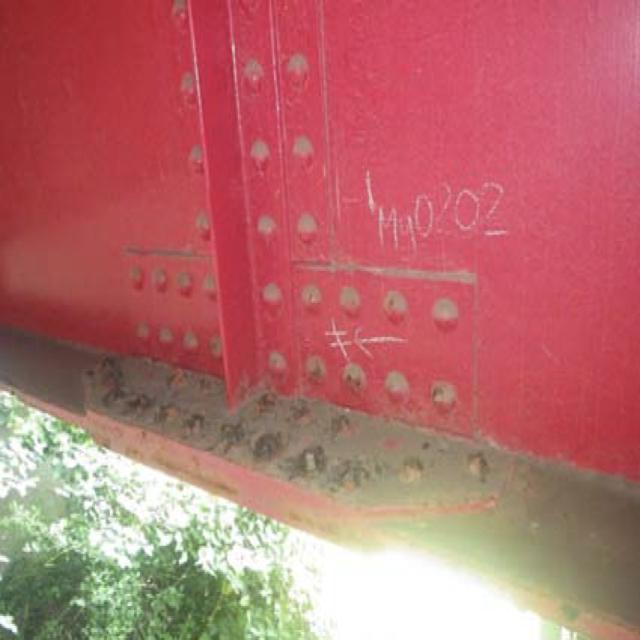corrosion: (99, 333, 512, 521)
